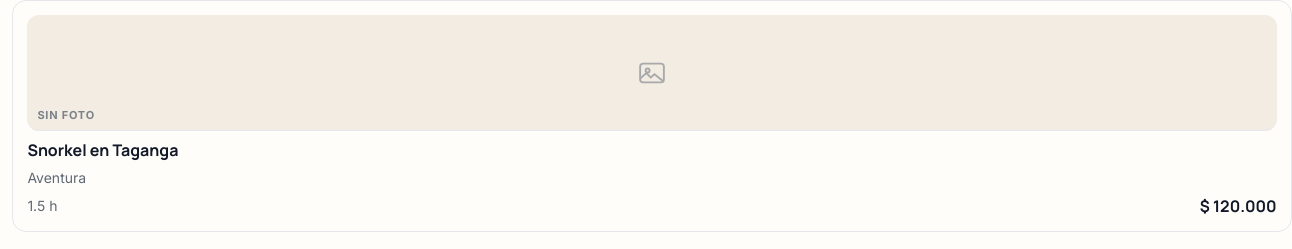
ActivityCard › enlaza toda la card con espacio de imagen, categoría, duración y precio
This screenshot has width=1292, height=249.
Step 1. Click the text "Sin foto" → {"x": 66, "y": 115}, box [37,108,95,122]
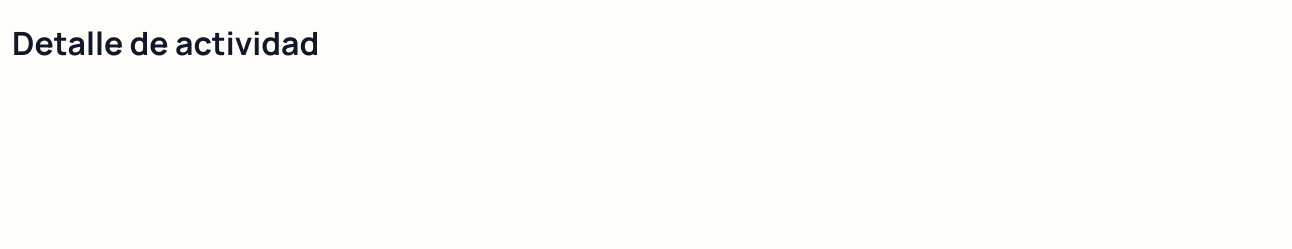
Expected: the heading "Detalle de actividad" is shown, [12,21,319,65]
